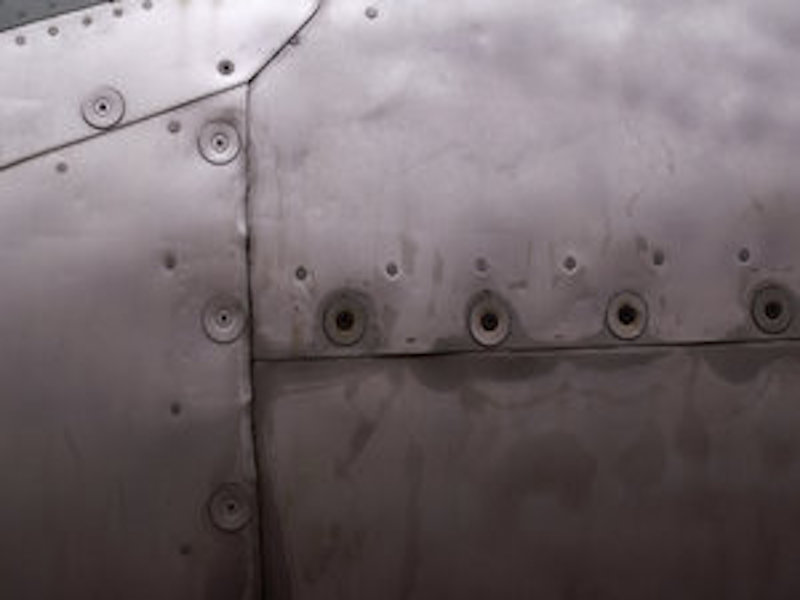rivet: (467, 292, 515, 350), (320, 293, 369, 348), (603, 287, 651, 343), (746, 285, 797, 336), (209, 480, 253, 533), (79, 84, 126, 131), (204, 293, 246, 343), (199, 121, 244, 166)
